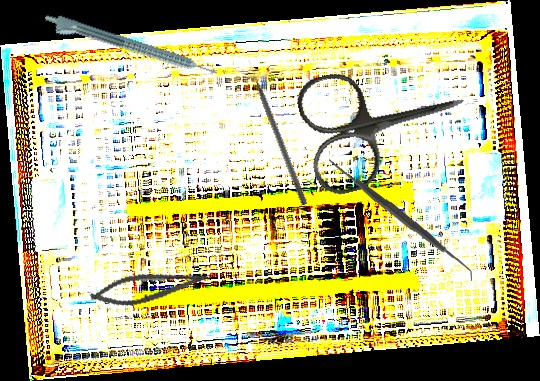Handpiece: (41, 10, 219, 87)
Iris Scissors: (292, 44, 479, 200)
Micro Scissor: (87, 257, 214, 316)
Pusher: (245, 58, 310, 206)
Spatula Surgical: (328, 146, 473, 286)
